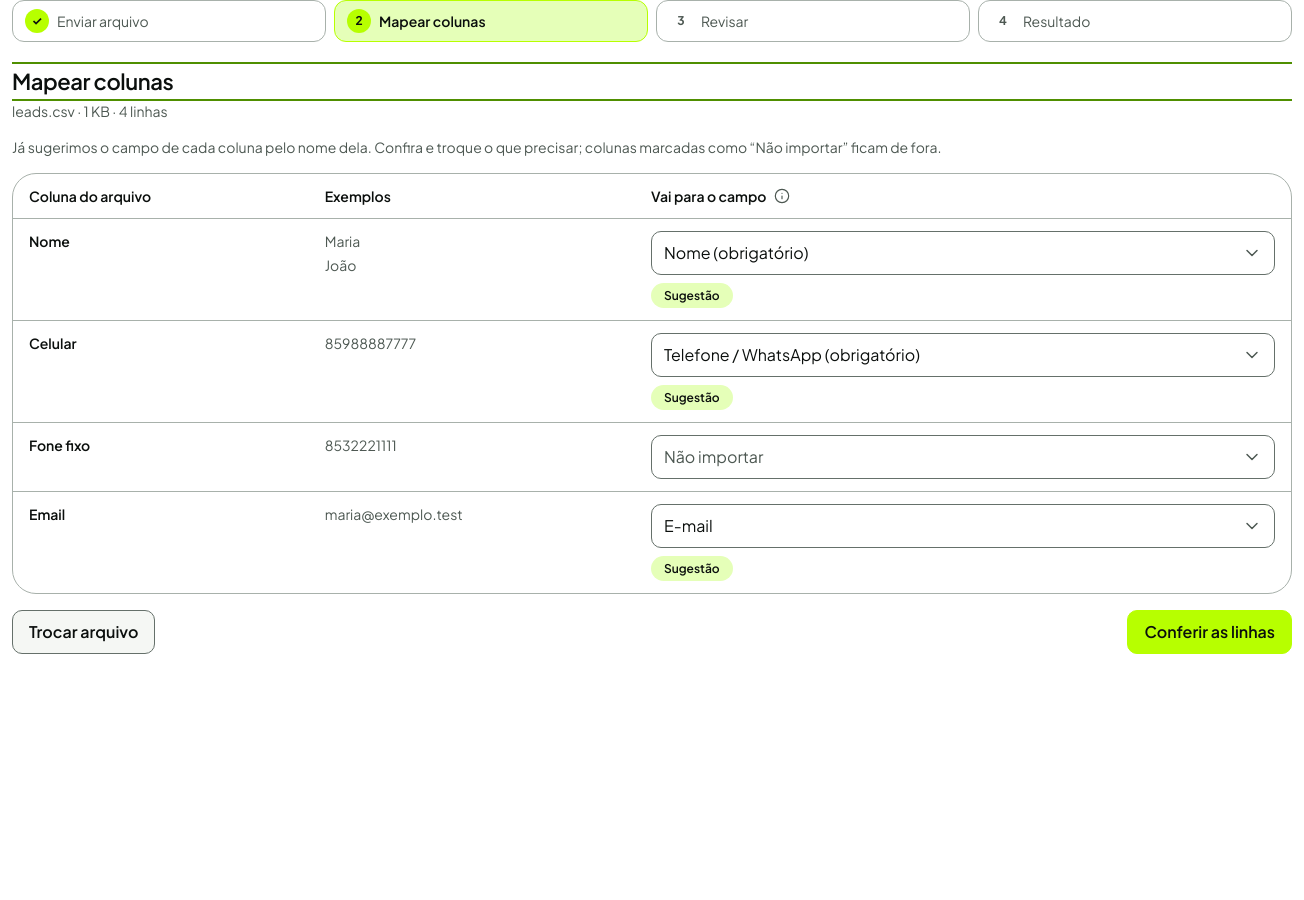
Test: os quatro passos, do arquivo ao relatório › erro ao confirmar fica na revisão e deixa tentar de novo
The image size is (1304, 900).
Earlier steps of the test are not shown.
Click the button "Conferir as linhas".
click(1210, 632)  # box [1127, 610, 1292, 654]
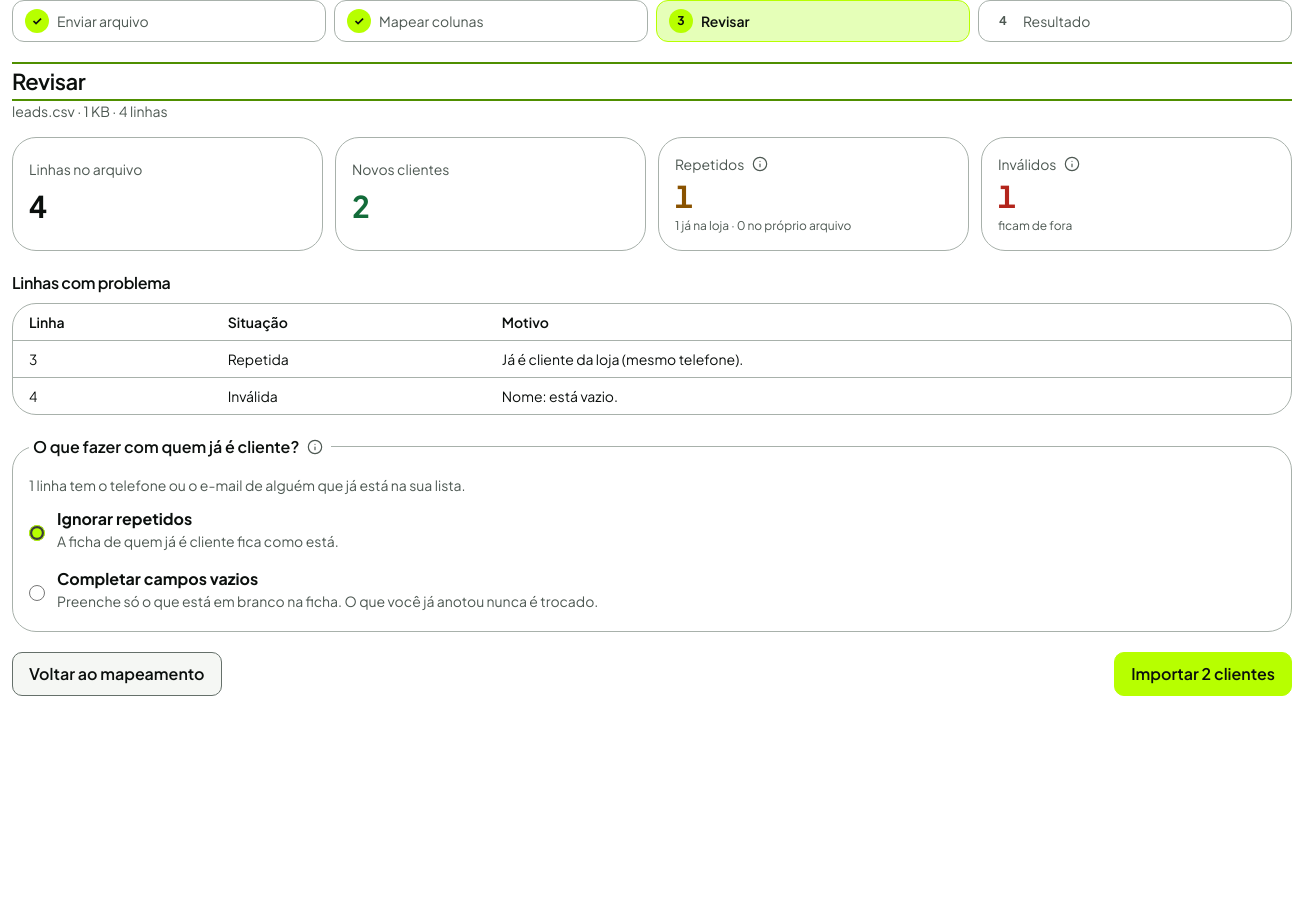
Click the button "Importar 2 clientes".
click(1203, 674)  # box [1114, 652, 1292, 696]
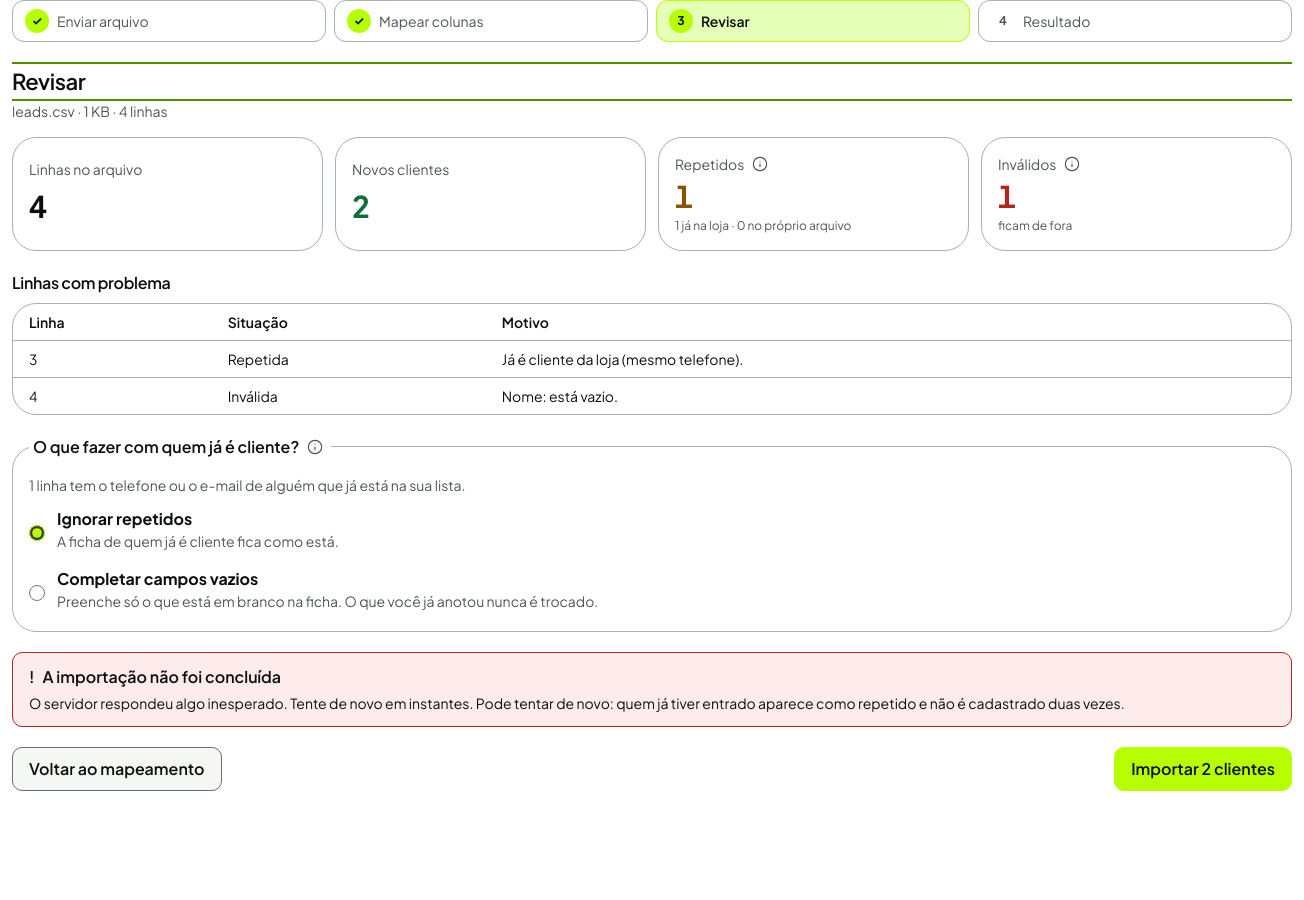
Expected: the button "Importar 2 clientes" is enabled, [1114, 747, 1292, 791]
Now the message shows "A importação não foi concluída", box [42, 666, 281, 687]
